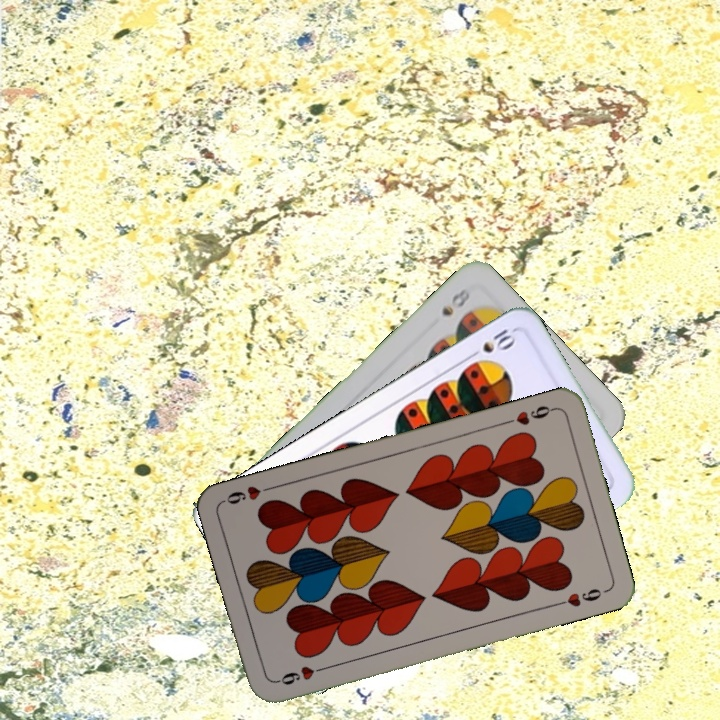H9: (500, 401, 558, 428), (271, 662, 330, 688)
S10: (464, 325, 519, 367)
S8: (437, 283, 472, 319)
